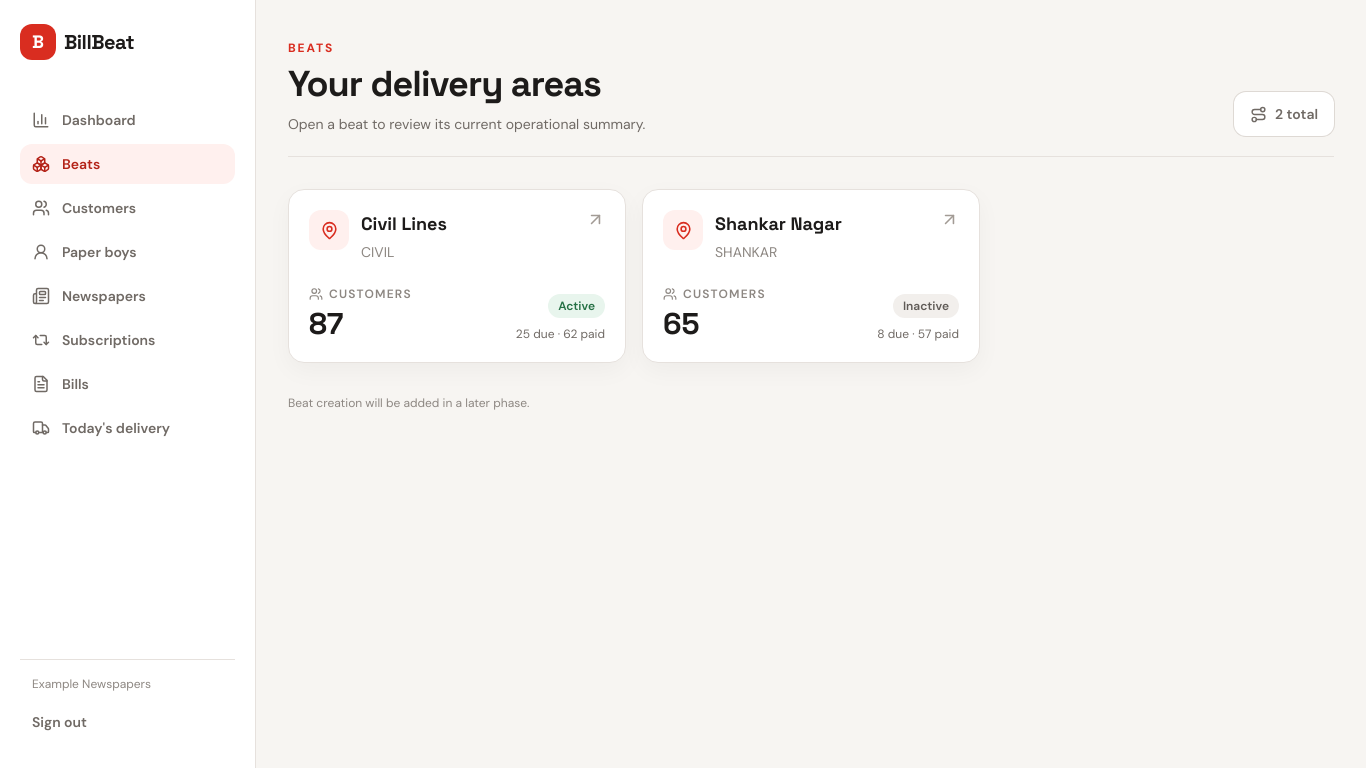
Test: Phase 3 dashboard and beats › opening a beat navigates to its detail page
What coordinates should you click on to do the following:
click the link "Civil Lines CIVIL Customers 87 Active 25 due · 62 paid"
I would click on:
 (329, 230)
Its box is [288,189,626,363].
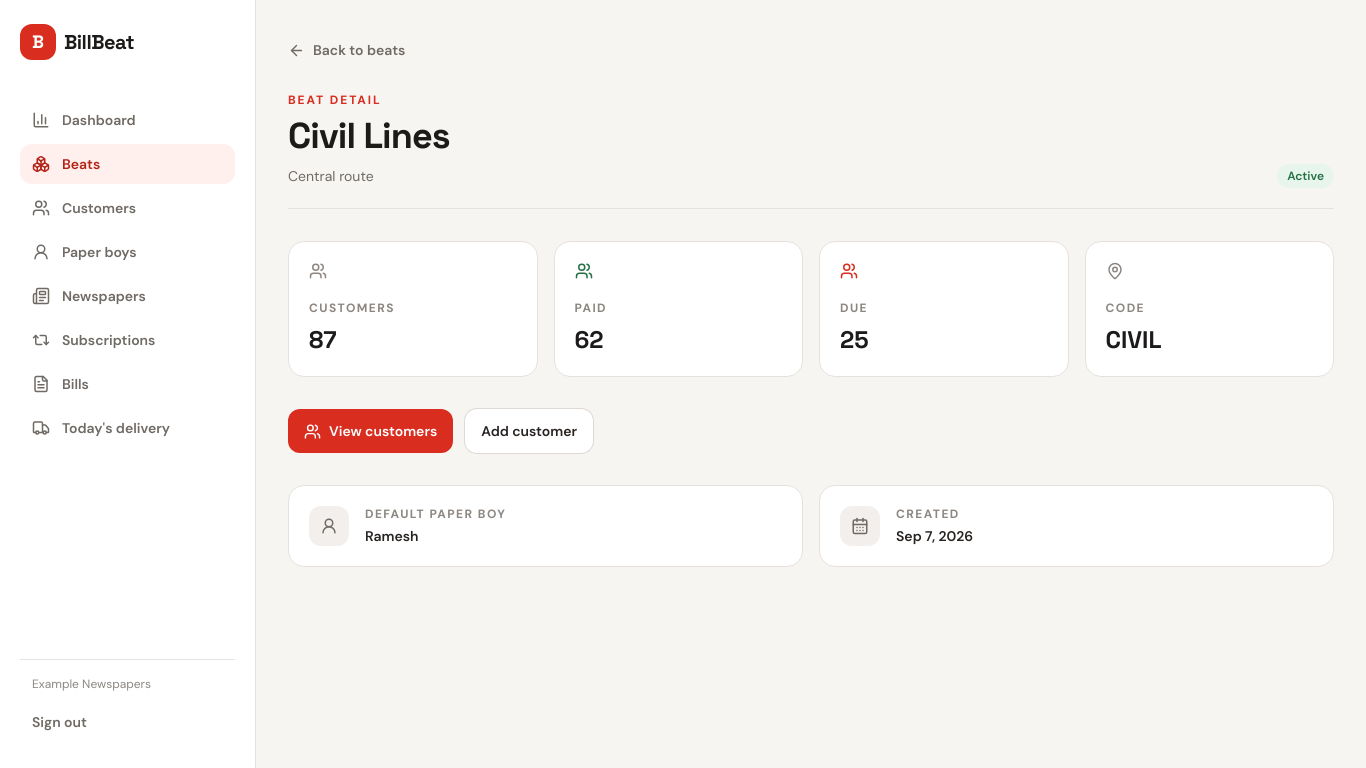
Result: the heading "Civil Lines" is shown at [288,116,450,156]
Result: the text "Central route" is shown at [288,167,374,185]
